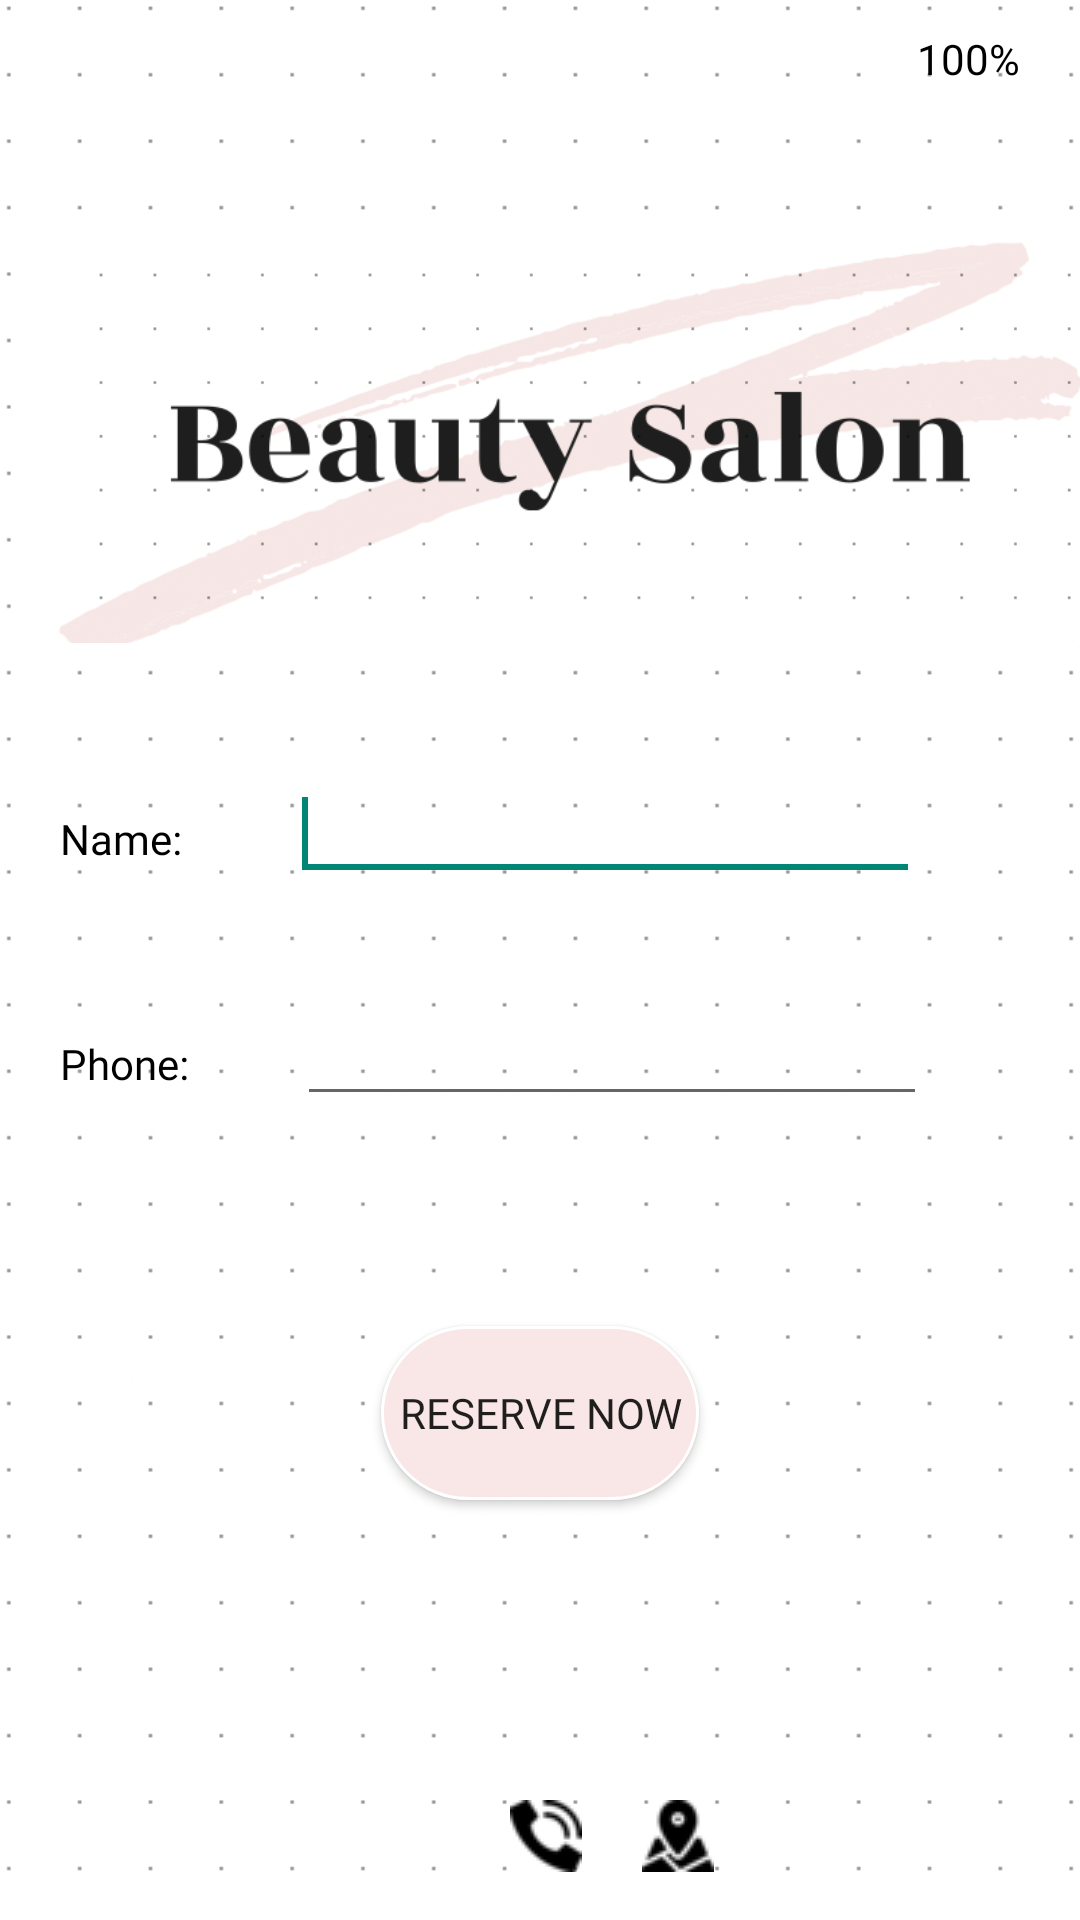

Point at icon controls on the screen. Image size 1080 × 1920, points as (x,y).
callicon: (546,1836)
mapicon: (678,1836)
